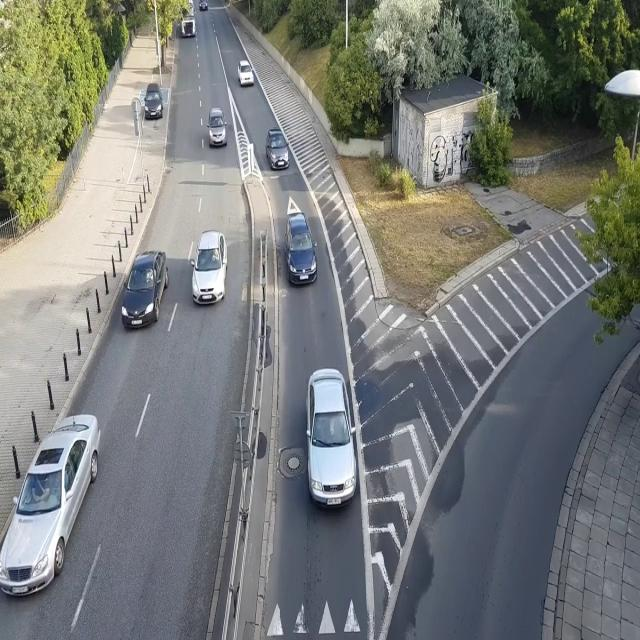car: (0, 413, 102, 601), (304, 368, 358, 510), (120, 250, 170, 332), (188, 228, 228, 306), (285, 211, 318, 288), (264, 127, 292, 172), (142, 82, 164, 120), (207, 107, 227, 148), (237, 60, 254, 89), (198, 0, 210, 12)
truck: (176, 1, 196, 40)
